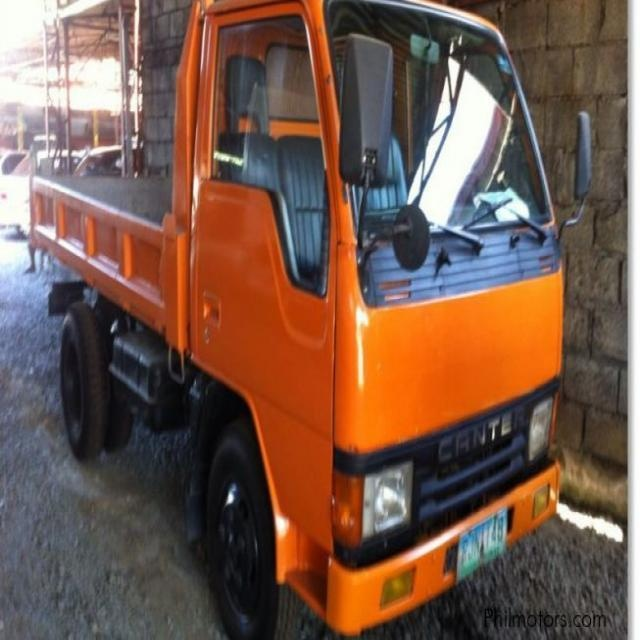Truck: (27, 0, 590, 627)
